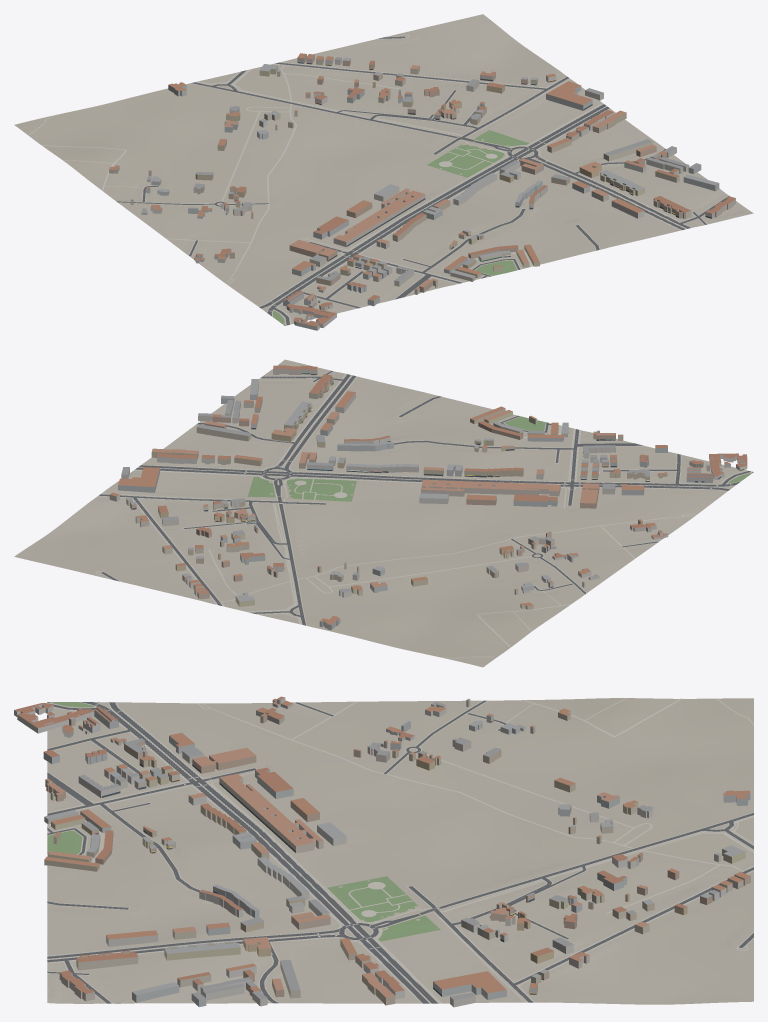
3 renders of one model, top to bottom at view 1: azimuth 30°, elevation 25°; view 2: azimuth 150°, elevation 25°; view 3: azimuth 270°, elevation 25°, orthographic. The views are drawn at different scales.
Visible parts, largest first — view 1: Ground, Walls, Roofs, Sidewalk, Road, Park, Detail; view 2: Ground, Walls, Roofs, Sidewalk, Road, Park, Detail; view 3: Ground, Walls, Roofs, Sidewalk, Road, Park.
Part boxes in pixels (x1,y1,x2,y2): Ground: [14, 14, 753, 324]; Walls: [109, 54, 735, 330]; Roofs: [109, 53, 735, 326]; Sidewalk: [28, 34, 737, 325]; Road: [116, 36, 729, 325]; Park: [273, 130, 529, 324]; Detail: [145, 61, 711, 321]; Ground: [14, 359, 751, 667]; Walls: [109, 368, 747, 630]; Roofs: [110, 365, 747, 624]; Sidewalk: [95, 363, 752, 658]; Road: [99, 371, 753, 625]; Park: [247, 416, 751, 501]; Detail: [132, 372, 743, 587]; Ground: [47, 698, 753, 1004]; Walls: [14, 698, 750, 1007]; Roofs: [14, 696, 750, 999]; Sidewalk: [47, 698, 753, 1003]; Road: [47, 700, 753, 1003]; Park: [47, 702, 440, 941].
Size of the model in its own units: 1016 by 20.47 by 1048.
